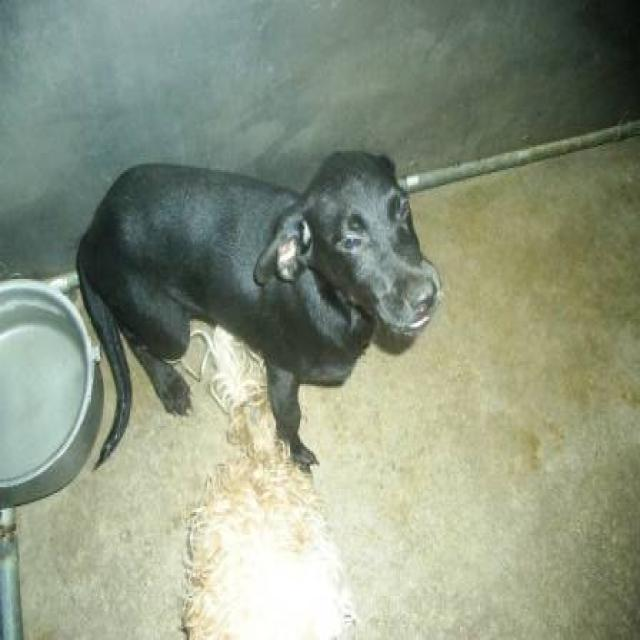dog: (74, 147, 442, 474)
